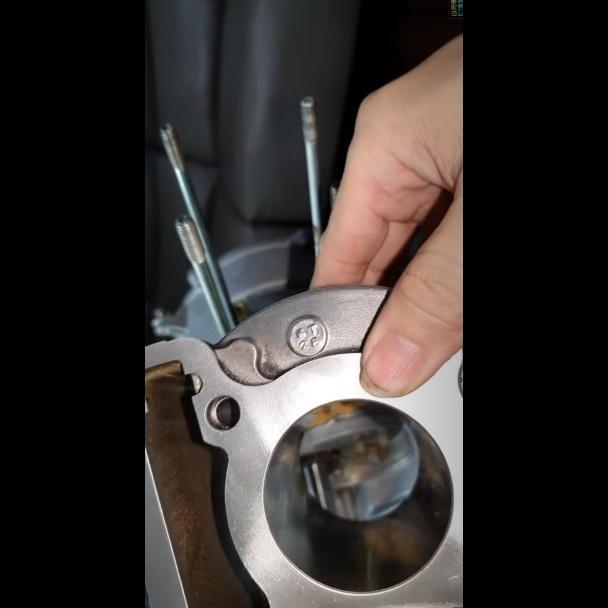hole: (202, 394, 240, 432)
